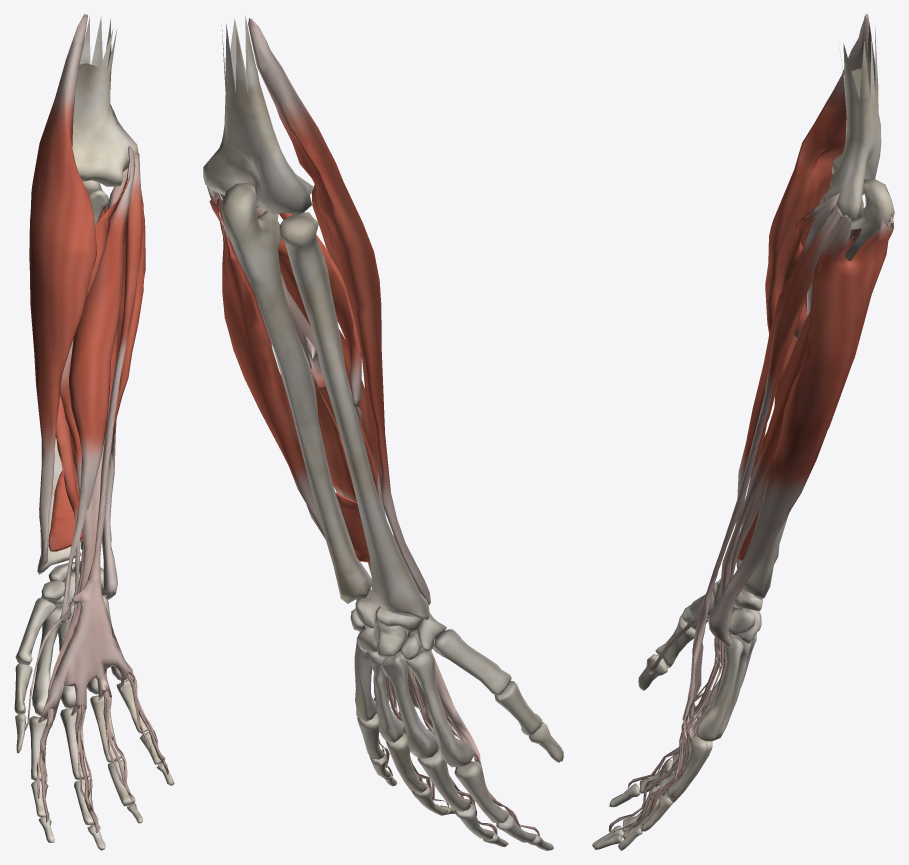
Rendered from forearm-flexors.glb.
The picture shows the model from 3 angles, left to right: view 1: azimuth 30°, elevation 25°; view 2: azimuth 150°, elevation 25°; view 3: azimuth 270°, elevation 25°; orthographic projection. The views are drawn at different scales.
Parts seen in each view (by area): view 1: Right_brachioradialis, Right_flexor_carpi_radialis, Right_palmaris_longus_and_palmar_aponeurosis, Right_humerus, Right_flexor_digitorum_superficialis, Right_flexor_carpi_ulnaris, Right_flexor_pollicis_longus, Right_flexor_digitorum_profundus, Right_pronator_quadratus, Right_2nd_metacarpal_bone, Right_1st_metacarpal_bone, Right_pronator_teres (+12 smaller); view 2: Right_brachioradialis, Right_ulna, Right_radius, Right_humerus, Right_flexor_carpi_ulnaris, Right_flexor_digitorum_profundus, Right_2nd_metacarpal_bone, Right_pronator_teres, Right_3rd_metacarpal_bone, Right_1st_metacarpal_bone, Right_flexor_digitorum_superficialis, Right_flexor_carpi_radialis (+11 smaller); view 3: Right_flexor_carpi_ulnaris, Right_brachioradialis, Right_humerus, Right_palmaris_longus_and_palmar_aponeurosis, Right_flexor_digitorum_superficialis, Right_flexor_carpi_radialis, Right_ulna, Right_flexor_digitorum_profundus, Right_5th_metacarpal_bone, Right_pronator_teres, Right_proximal_phalanx_of_5th_digit, Right_proximal_phalanx_of_1st_digit_thumb (+1 smaller).
Boxes of the visible parts, left/top/right/bottom form: Right_brachioradialis: left=29, top=14, right=96, bottom=566; Right_flexor_carpi_radialis: left=60, top=147, right=135, bottom=623; Right_palmaris_longus_and_palmar_aponeurosis: left=38, top=153, right=142, bottom=724; Right_humerus: left=72, top=16, right=138, bottom=186; Right_flexor_digitorum_superficialis: left=36, top=168, right=158, bottom=798; Right_flexor_carpi_ulnaris: left=96, top=152, right=145, bottom=599; Right_flexor_pollicis_longus: left=24, top=395, right=80, bottom=730; Right_flexor_digitorum_profundus: left=39, top=429, right=168, bottom=832; Right_pronator_quadratus: left=48, top=463, right=82, bottom=551; Right_2nd_metacarpal_bone: left=32, top=604, right=62, bottom=715; Right_1st_metacarpal_bone: left=15, top=597, right=56, bottom=665; Right_pronator_teres: left=86, top=145, right=131, bottom=299; Right_brachioradialis: left=248, top=18, right=430, bottom=604; Right_ulna: left=220, top=183, right=371, bottom=603; Right_radius: left=279, top=212, right=429, bottom=619; Right_humerus: left=203, top=15, right=313, bottom=215; Right_flexor_carpi_ulnaris: left=207, top=186, right=371, bottom=632; Right_flexor_digitorum_profundus: left=310, top=367, right=539, bottom=835; Right_2nd_metacarpal_bone: left=405, top=647, right=474, bottom=767; Right_pronator_teres: left=278, top=212, right=361, bottom=406; Right_3rd_metacarpal_bone: left=381, top=651, right=438, bottom=758; Right_1st_metacarpal_bone: left=434, top=629, right=511, bottom=695; Right_flexor_digitorum_superficialis: left=222, top=194, right=520, bottom=828; Right_flexor_carpi_radialis: left=256, top=207, right=430, bottom=651; Right_flexor_carpi_ulnaris: left=708, top=213, right=893, bottom=646; Right_brachioradialis: left=765, top=14, right=869, bottom=403; Right_humerus: left=819, top=23, right=881, bottom=224; Right_palmaris_longus_and_palmar_aponeurosis: left=682, top=207, right=842, bottom=743; Right_flexor_digitorum_superficialis: left=637, top=311, right=810, bottom=821; Right_flexor_carpi_radialis: left=728, top=196, right=838, bottom=635; Right_ulna: left=743, top=179, right=894, bottom=599; Right_flexor_digitorum_profundus: left=608, top=454, right=775, bottom=837; Right_5th_metacarpal_bone: left=696, top=635, right=743, bottom=741; Right_pronator_teres: left=780, top=193, right=839, bottom=339; Right_proximal_phalanx_of_5th_digit: left=666, top=735, right=707, bottom=798; Right_proximal_phalanx_of_1st_digit_thumb: left=655, top=614, right=695, bottom=668.
Bounding box in the file's own units: 0.1452 × 0.4914 × 0.1514.
Materials: 39 (39 with a texture image).
